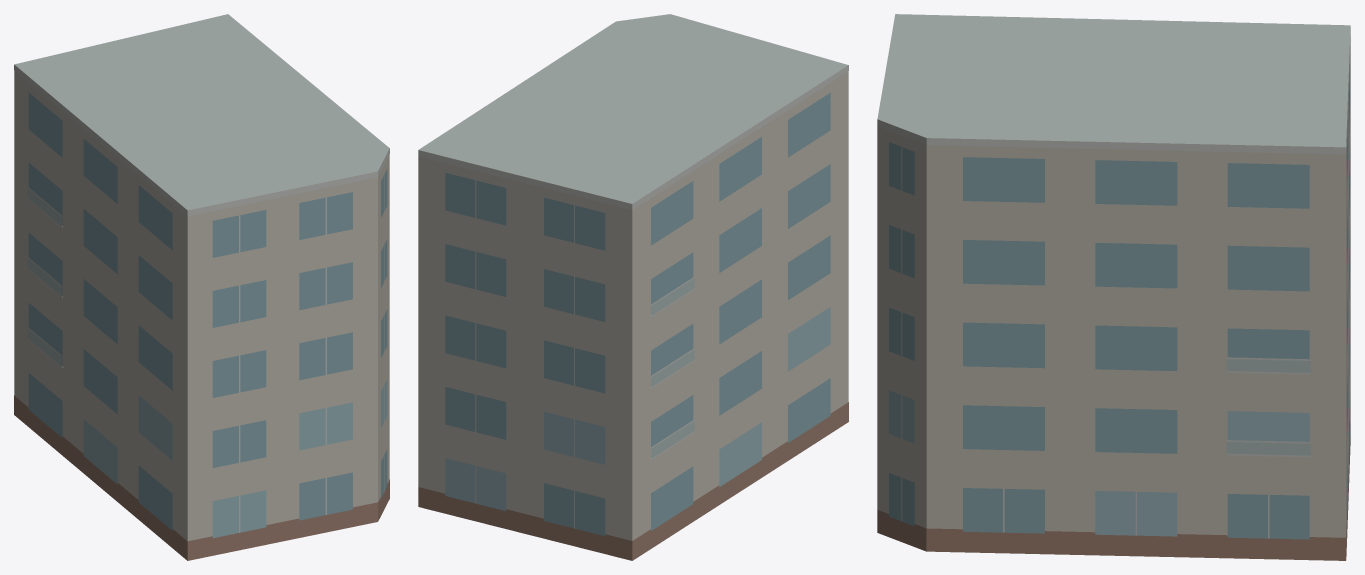
File: survey-upis-32950072.glb
The picture shows the model from 3 angles, left to right: view 1: azimuth 30°, elevation 25°; view 2: azimuth 150°, elevation 25°; view 3: azimuth 270°, elevation 25°; orthographic projection. The views are drawn at different scales.
Visible parts, largest first — view 1: survey-upis-32950072.tmp; view 2: survey-upis-32950072.tmp; view 3: survey-upis-32950072.tmp.
Boxes of the visible parts, x1,y1,x2,y2 form: survey-upis-32950072.tmp: (14,14,389,560); survey-upis-32950072.tmp: (418,14,848,560); survey-upis-32950072.tmp: (877,14,1350,560).
Size of the model in its own units: 9.9 by 14.3 by 14.84.
